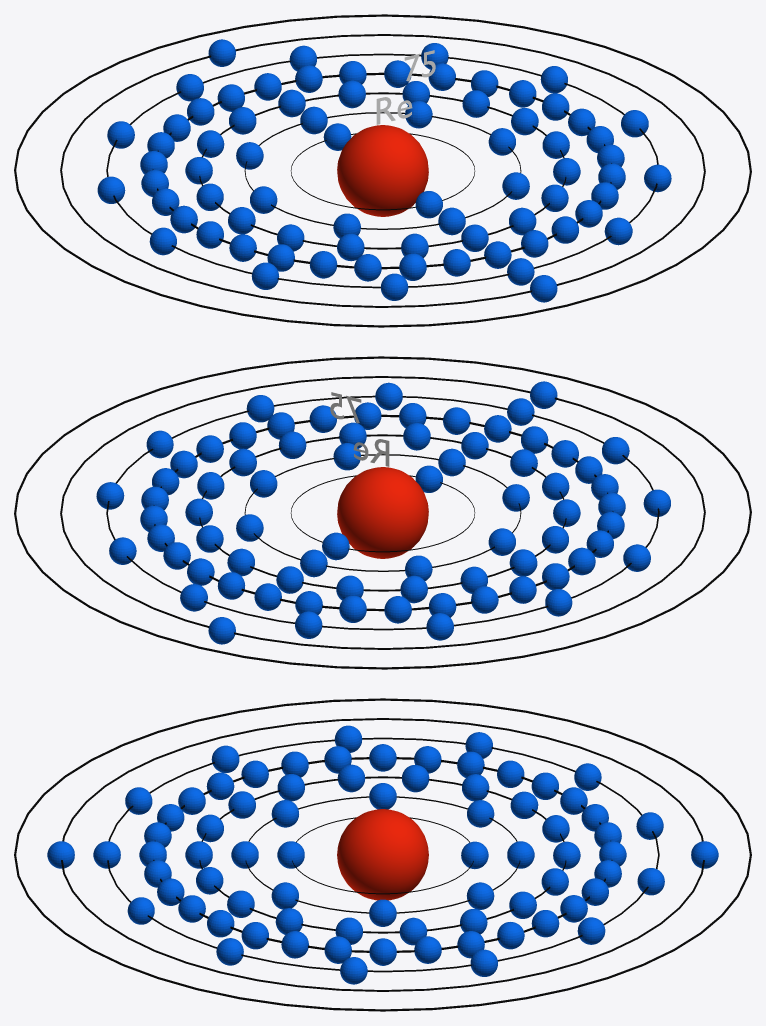
3 views of the same model, one above another, from view 1: azimuth 30°, elevation 25°; view 2: azimuth 150°, elevation 25°; view 3: azimuth 270°, elevation 25° (orthographic).
Visible parts, largest first — view 1: Re4, Re3, Re5, Proton, Re2, n7, n6, n5, Re6, Re1, n3, n4 (+1 smaller); view 2: Re4, Re3, Re5, Proton, Re2, n7, n6, n5, Re6, Re1, n3, n4 (+1 smaller); view 3: Re4, Re3, Re5, Proton, Re2, n7, n6, n5, Re1, Re6, n3, n4 (+2 smaller).
Part boxes in pixels (bbox=[...]): Re4: bbox=[140, 60, 625, 281]; Re3: bbox=[185, 80, 580, 261]; Re5: bbox=[97, 43, 671, 300]; Proton: bbox=[337, 125, 428, 216]; Re2: bbox=[236, 101, 529, 238]; n7: bbox=[14, 14, 751, 327]; n6: bbox=[60, 34, 705, 307]; n5: bbox=[106, 53, 658, 288]; Re6: bbox=[208, 39, 557, 302]; Re1: bbox=[323, 123, 442, 218]; n3: bbox=[199, 92, 566, 249]; n4: bbox=[152, 72, 611, 269]; Re4: bbox=[140, 402, 625, 623]; Re3: bbox=[185, 422, 580, 603]; Re5: bbox=[96, 382, 670, 640]; Proton: bbox=[337, 467, 428, 558]; Re2: bbox=[236, 443, 529, 580]; n7: bbox=[14, 356, 751, 669]; n6: bbox=[60, 376, 705, 649]; n5: bbox=[106, 395, 659, 630]; Re6: bbox=[208, 381, 557, 644]; Re1: bbox=[322, 465, 442, 560]; n3: bbox=[199, 434, 566, 591]; n4: bbox=[153, 414, 613, 611]; Re4: bbox=[139, 744, 626, 965]; Re3: bbox=[185, 764, 580, 945]; Re5: bbox=[93, 725, 664, 984]; Proton: bbox=[337, 809, 428, 900]; Re2: bbox=[231, 783, 534, 926]; n7: bbox=[14, 698, 751, 1011]; n6: bbox=[61, 718, 704, 991]; n5: bbox=[107, 737, 659, 972]; Re1: bbox=[277, 841, 488, 869]; Re6: bbox=[47, 841, 718, 868]; n3: bbox=[199, 776, 566, 933]; n4: bbox=[153, 757, 612, 952].
Size of the model in its own units: 802 by 180 by 802.
